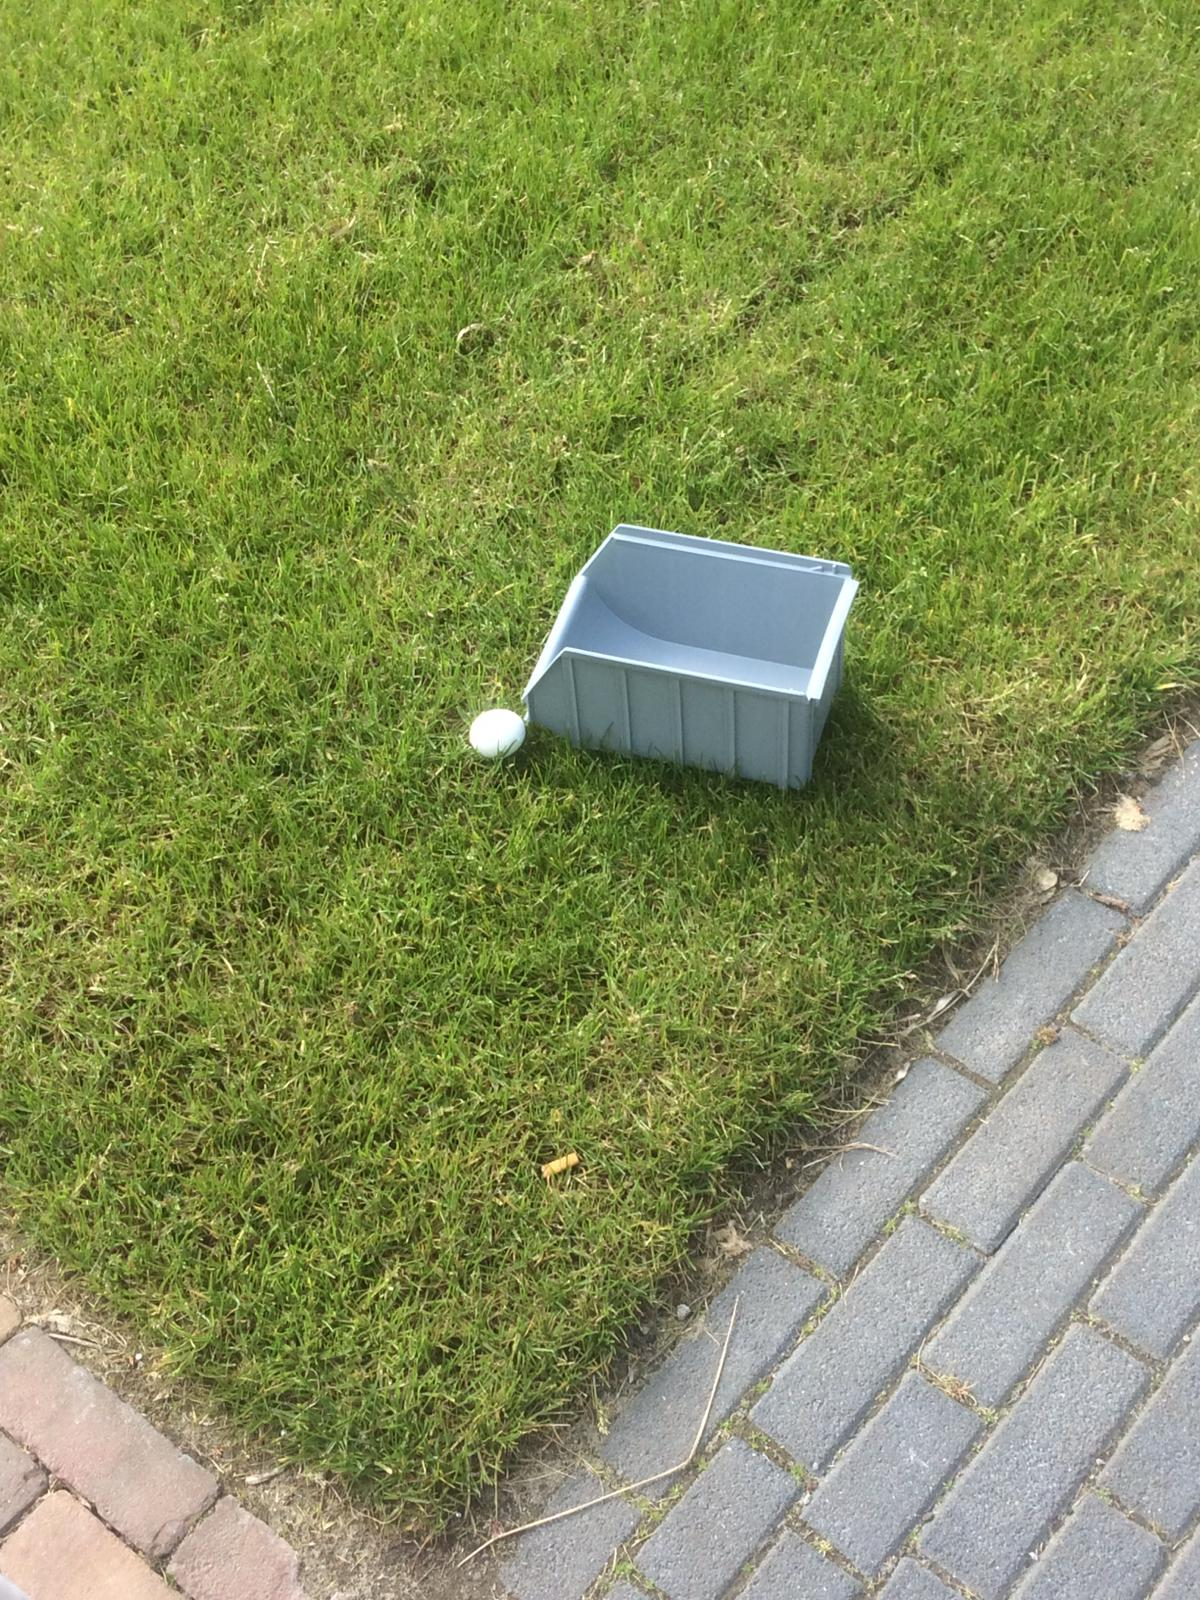egg: (458, 703, 532, 762)
tray: (527, 519, 858, 794)
